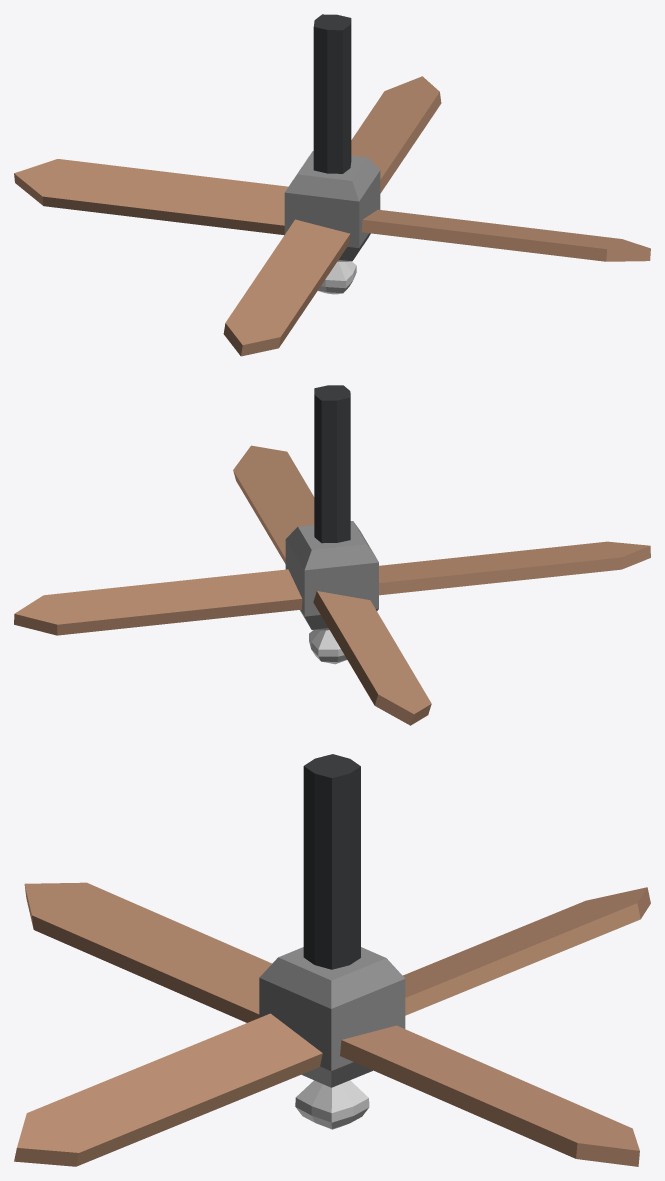
File: fan.fbx
3 renders of one model, top to bottom at view 1: azimuth 30°, elevation 25°; view 2: azimuth 150°, elevation 25°; view 3: azimuth 270°, elevation 25°, orthographic. The views are drawn at different scales.
Visible parts, largest first — view 1: fan; view 2: fan; view 3: fan.
Part boxes in pixels (left/top/right/bottom): fan: left=14, top=14, right=650, bottom=356; fan: left=14, top=385, right=650, bottom=725; fan: left=14, top=754, right=650, bottom=1166.
Bounding box in the file's own units: 141 × 87.59 × 141.
